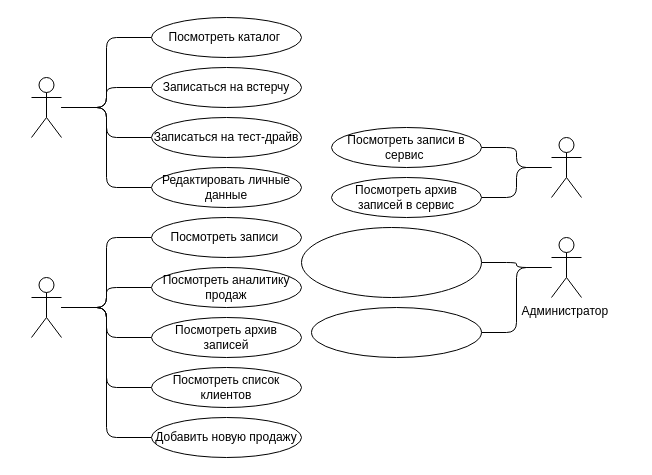
This 652x475 diagram has some shape labels left out. The shapes that lost their labels are listed below. From the top down, each one's centre as x and y in pixels, then its label:
At point 46,107: "Клиент".
At point 566,167: "Администратор сервиса".
At point 391,262: "Добавить, редактировать, удалить учетные записи сотрудников".
At point 46,307: "Менеджер".
At point 396,332: "Добавить, редактировать, удалить позиции в каталоге".
